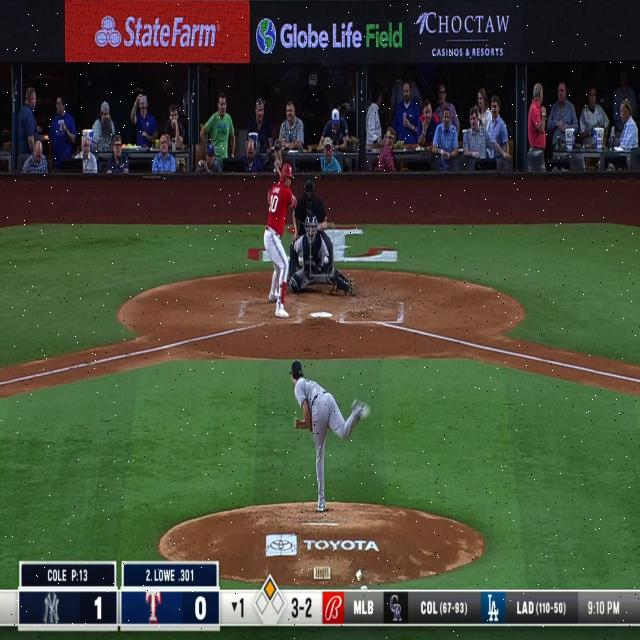baseball: (324, 255, 329, 264)
